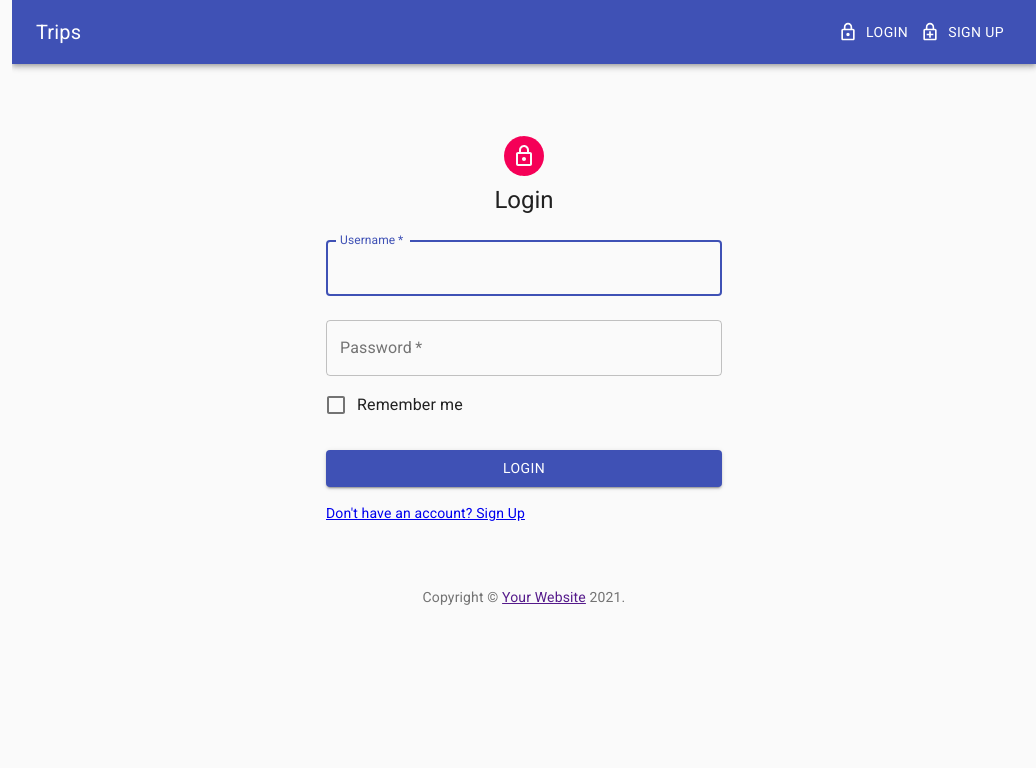
Test: Login › login in with correct credentials
In the field with id "username": (524, 268) x1=326 y1=240 x2=722 y2=296, type "hello"
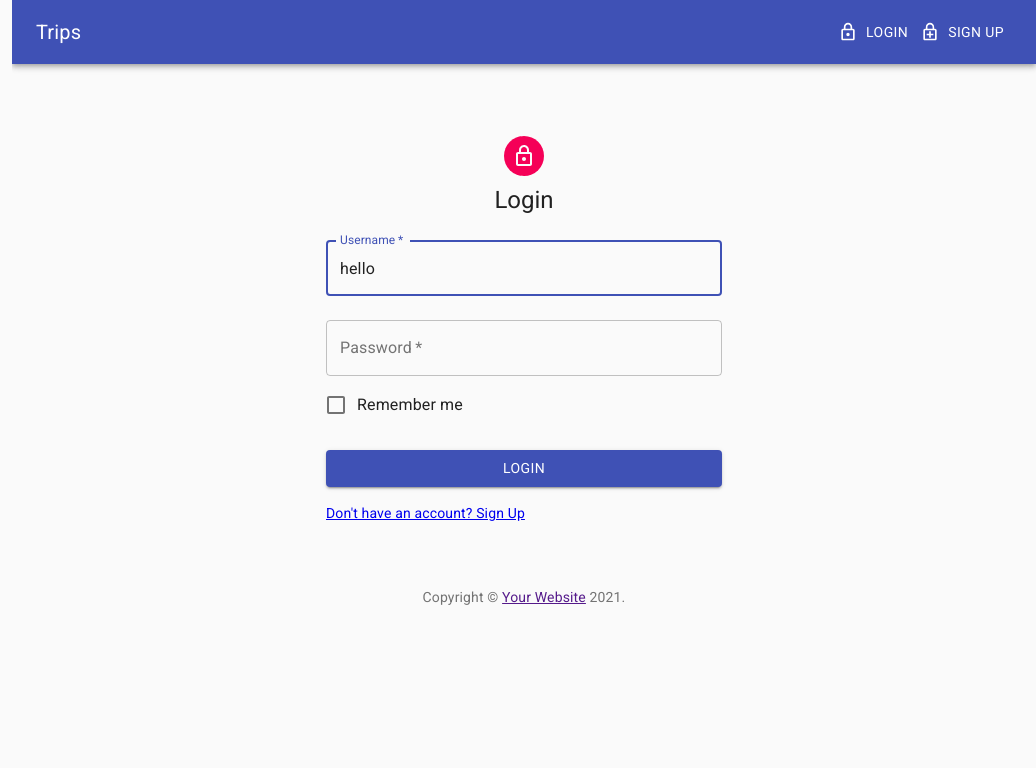
In the password field labelled "Password *": (524, 348) x1=326 y1=320 x2=722 y2=376, type "hello"
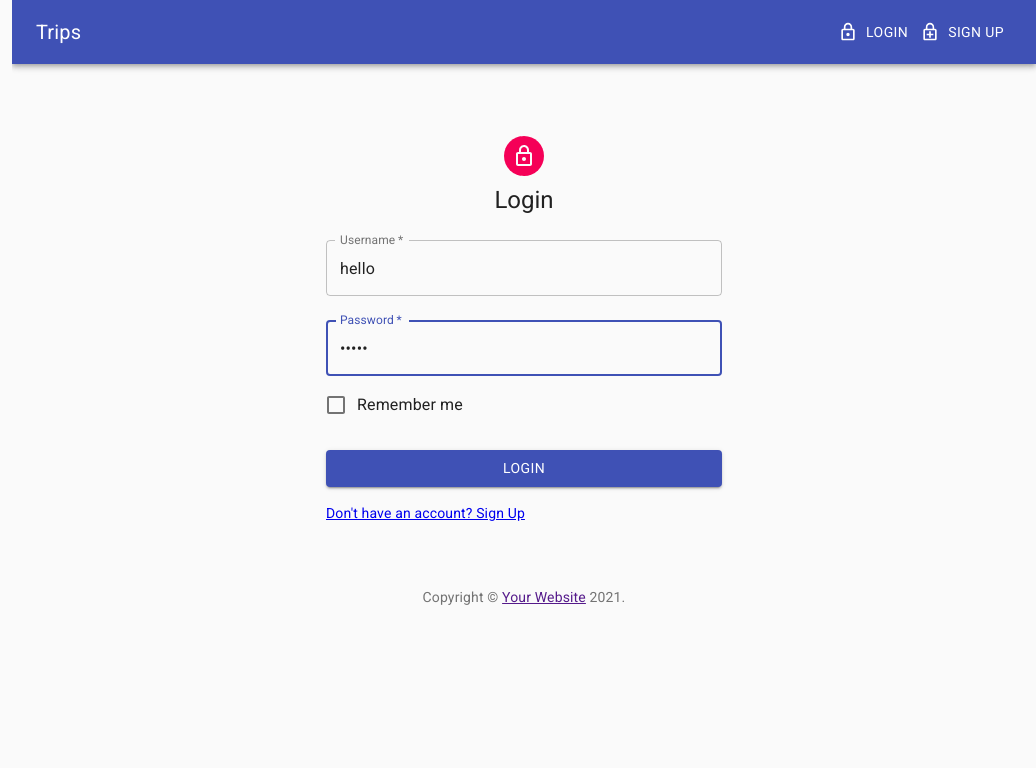
Click the button "Login" below "Remember me": click(524, 469) x1=326 y1=450 x2=722 y2=487
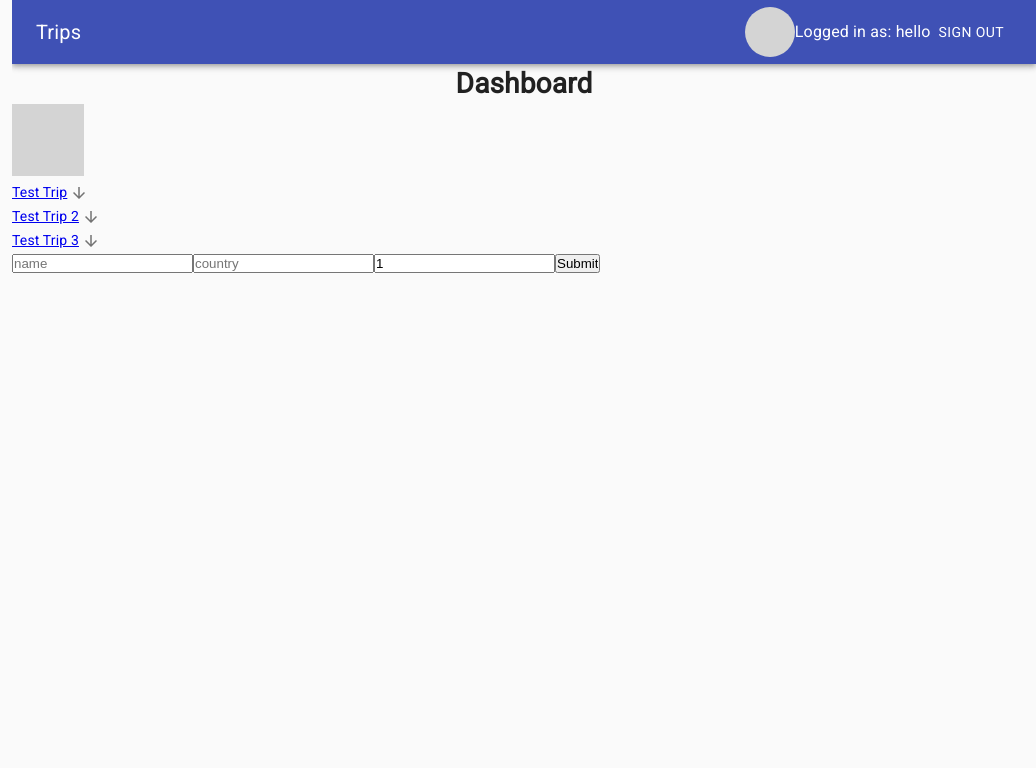
Check: the heading "Dashboard" is shown, box x1=456 y1=67 x2=592 y2=100
Check: the heading "Logged in as: hello" is shown, box x1=795 y1=18 x2=931 y2=46
